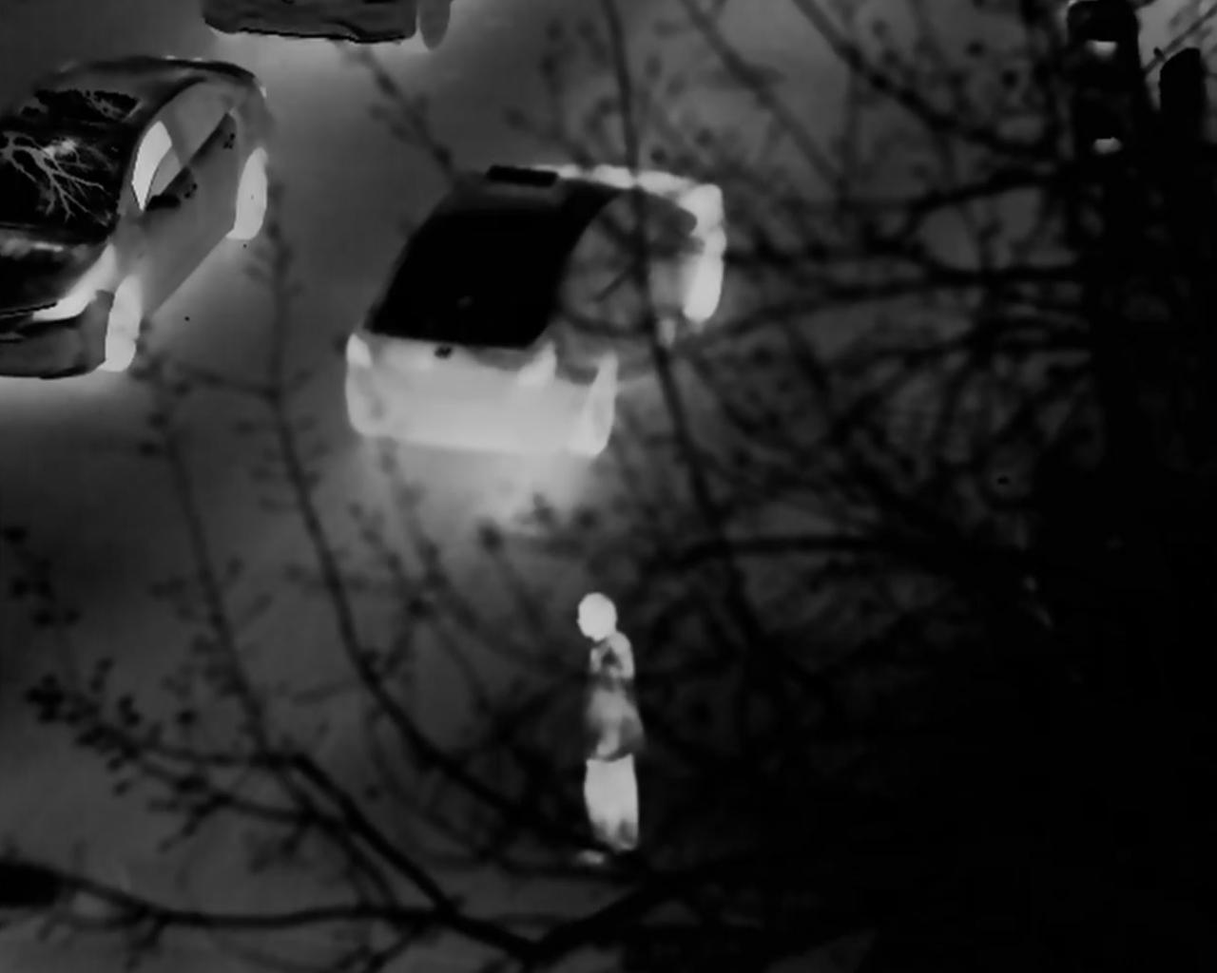person: (579, 588, 651, 860)
